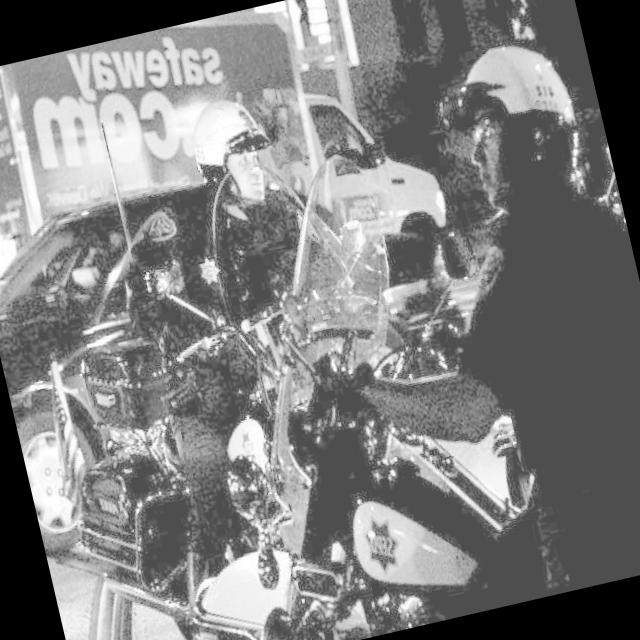Motorcycle: (124, 234, 601, 640), (0, 171, 348, 640)
